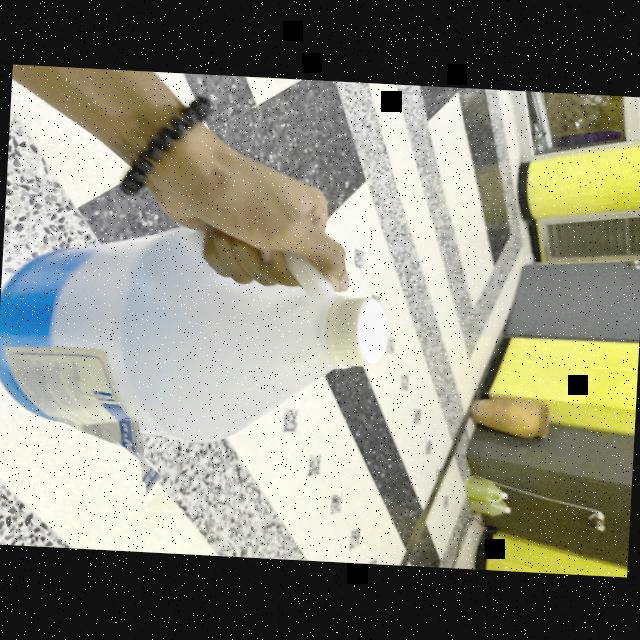chemical_plastic_gallon: (0, 201, 403, 461)
